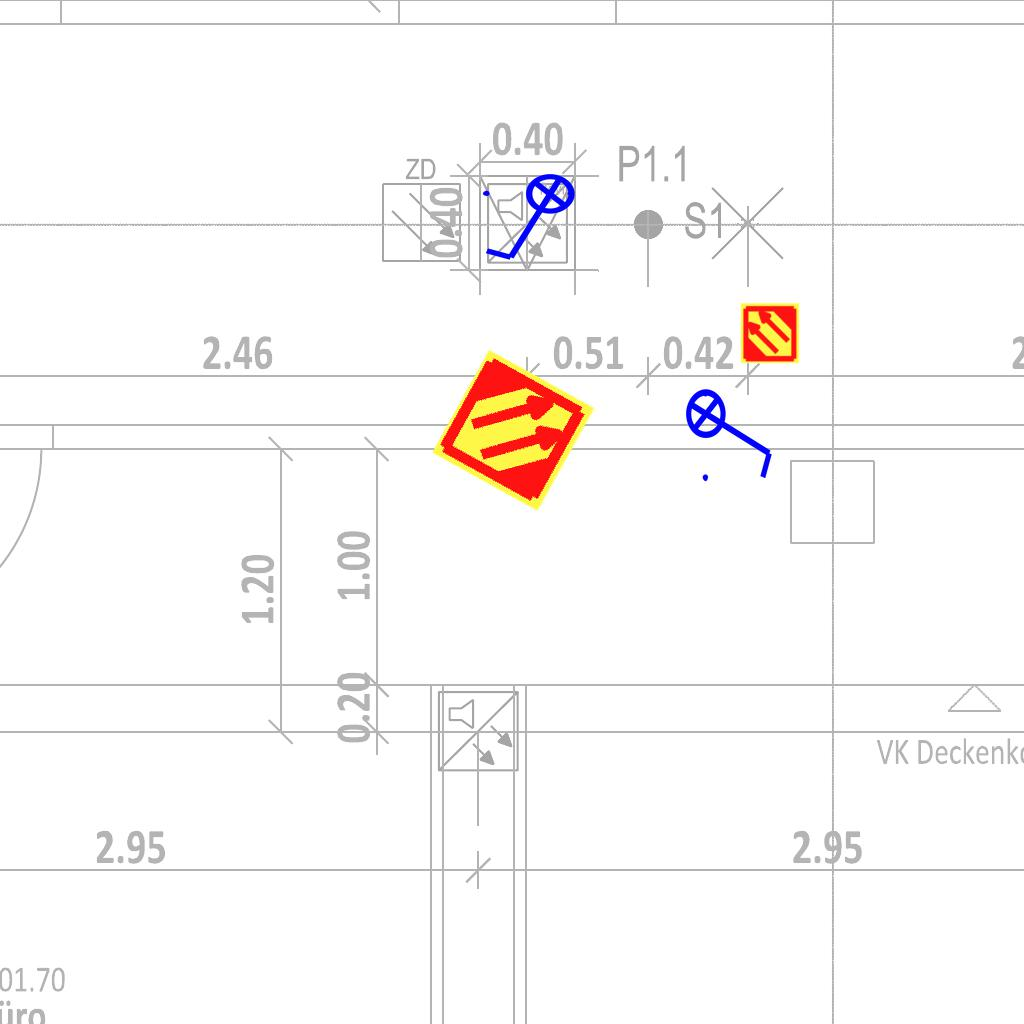ASR_Ansaugrauchmelder: (428, 345, 599, 516), (739, 302, 801, 364)
Ausschalter_beleuchtet: (477, 172, 589, 268), (684, 375, 780, 487)
